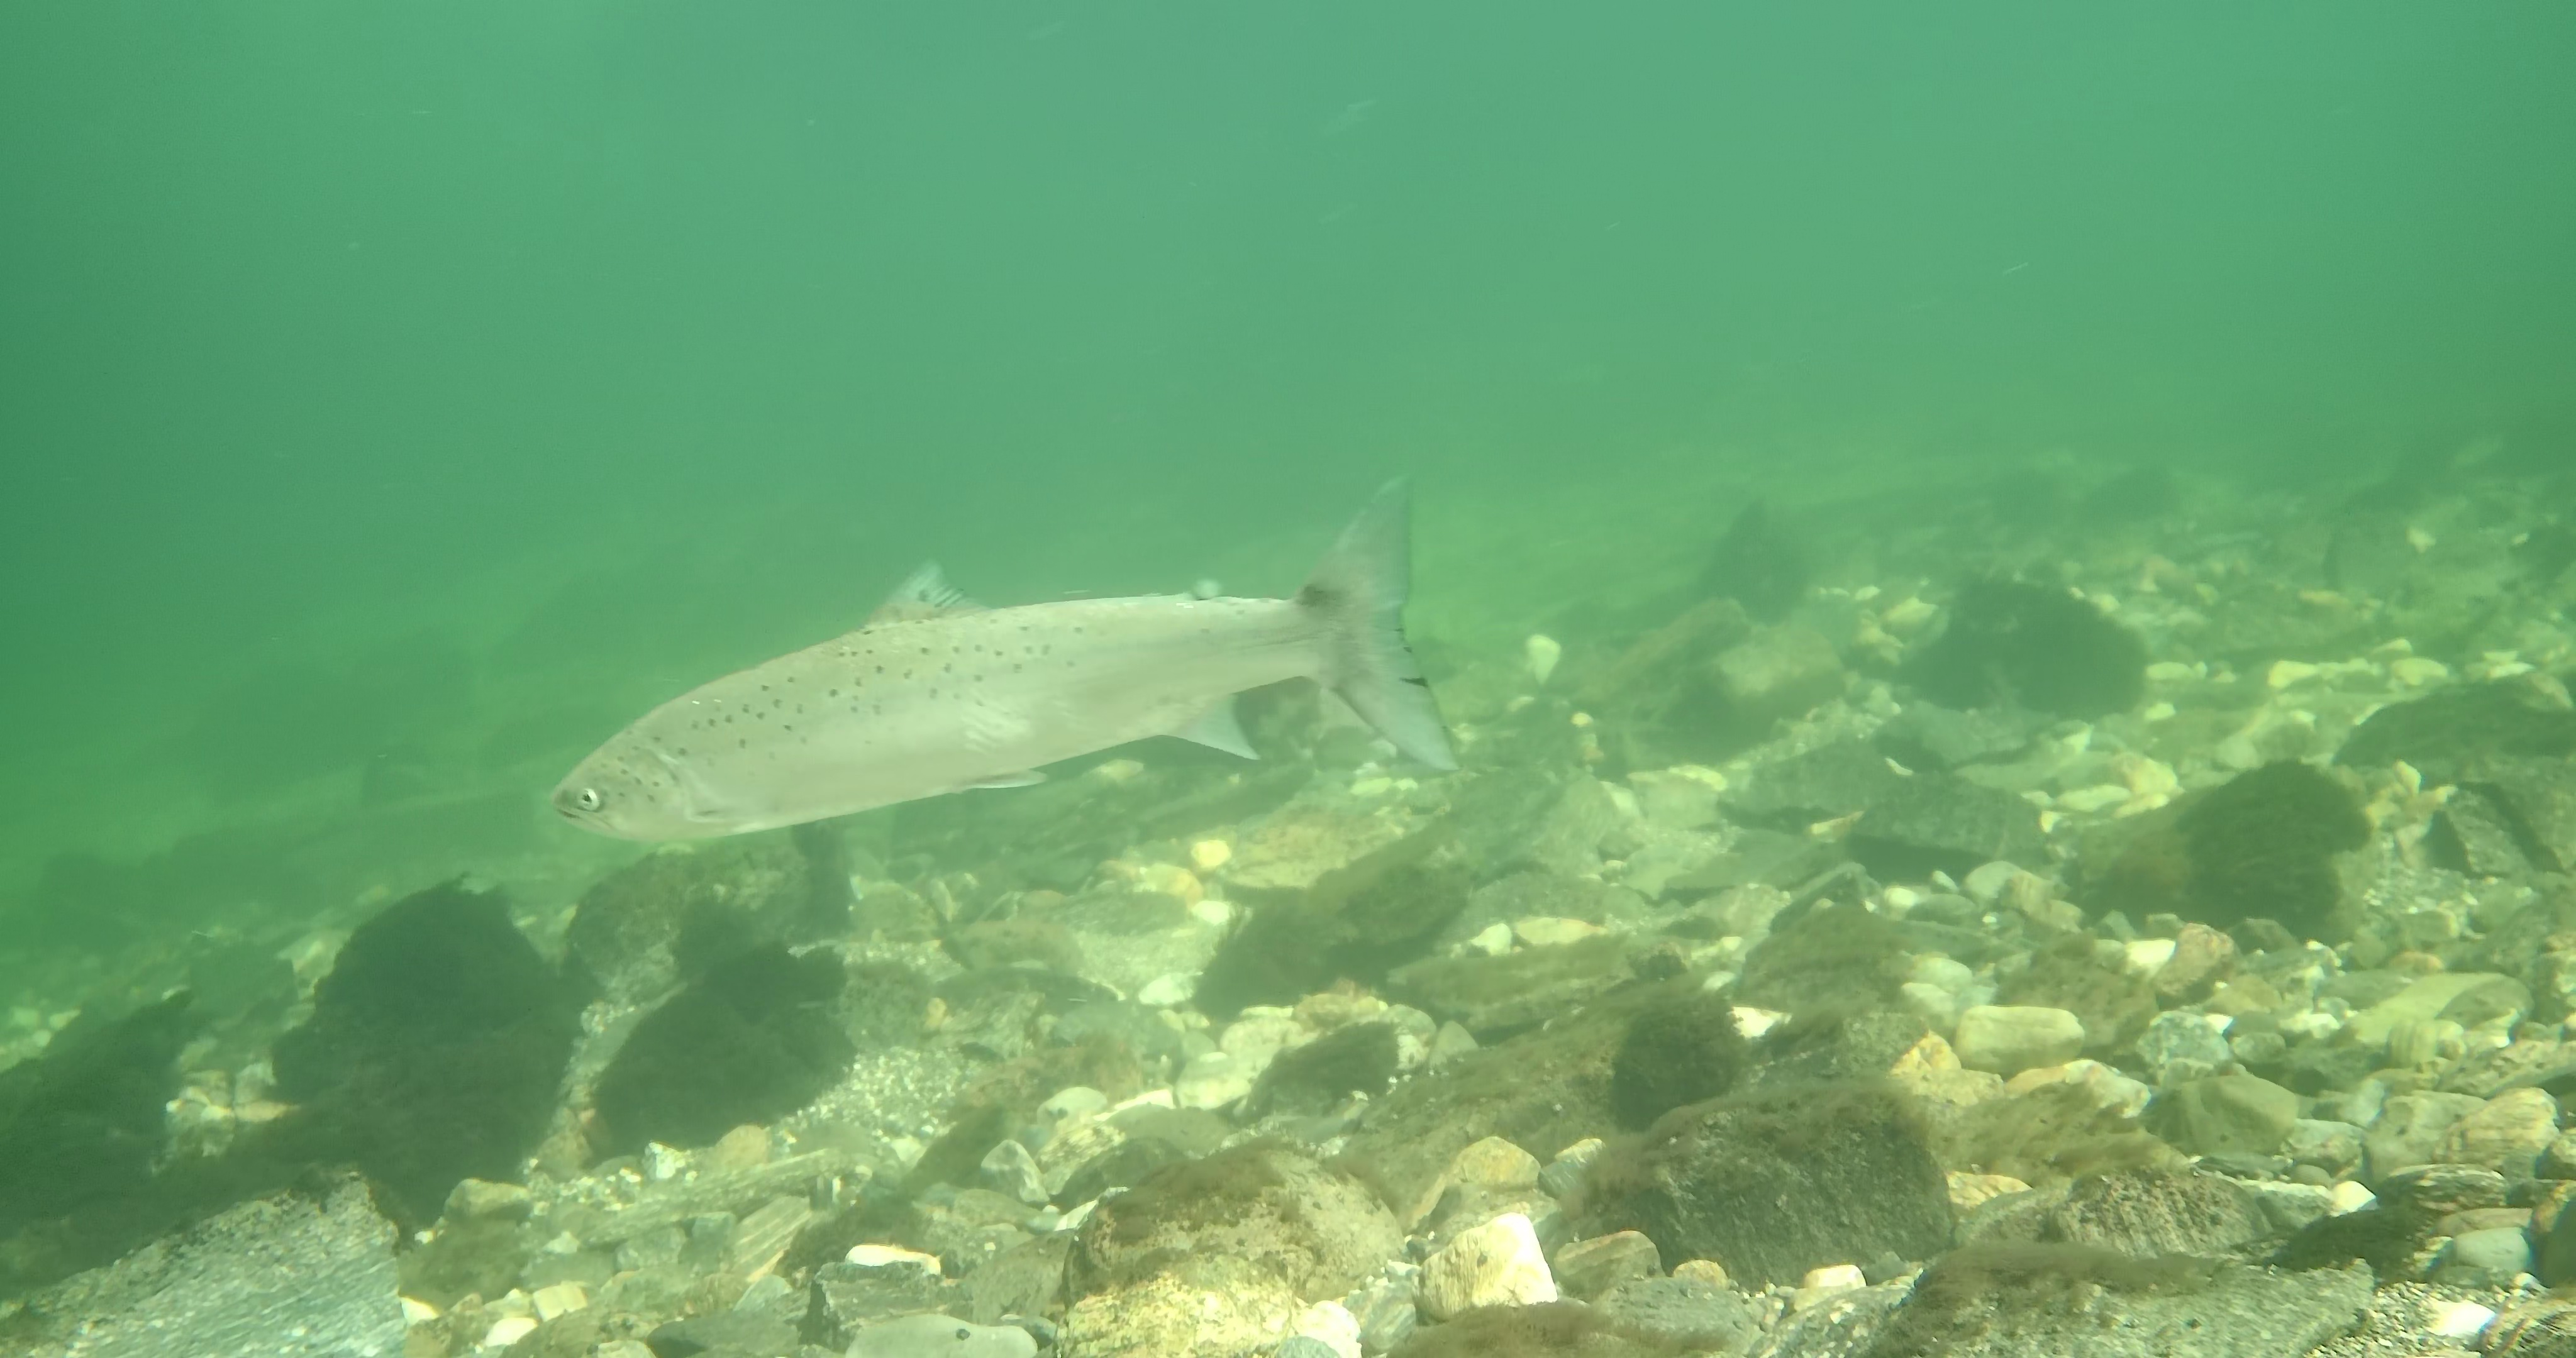salmon: (547, 469, 1463, 847)
